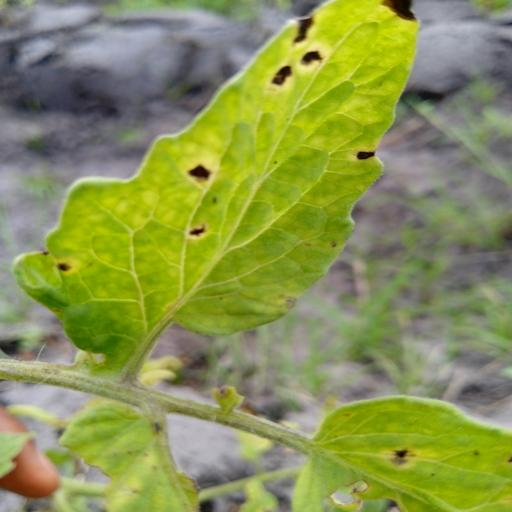Tomato_Brown_Spots: (10, 0, 424, 373), (286, 394, 512, 512)
